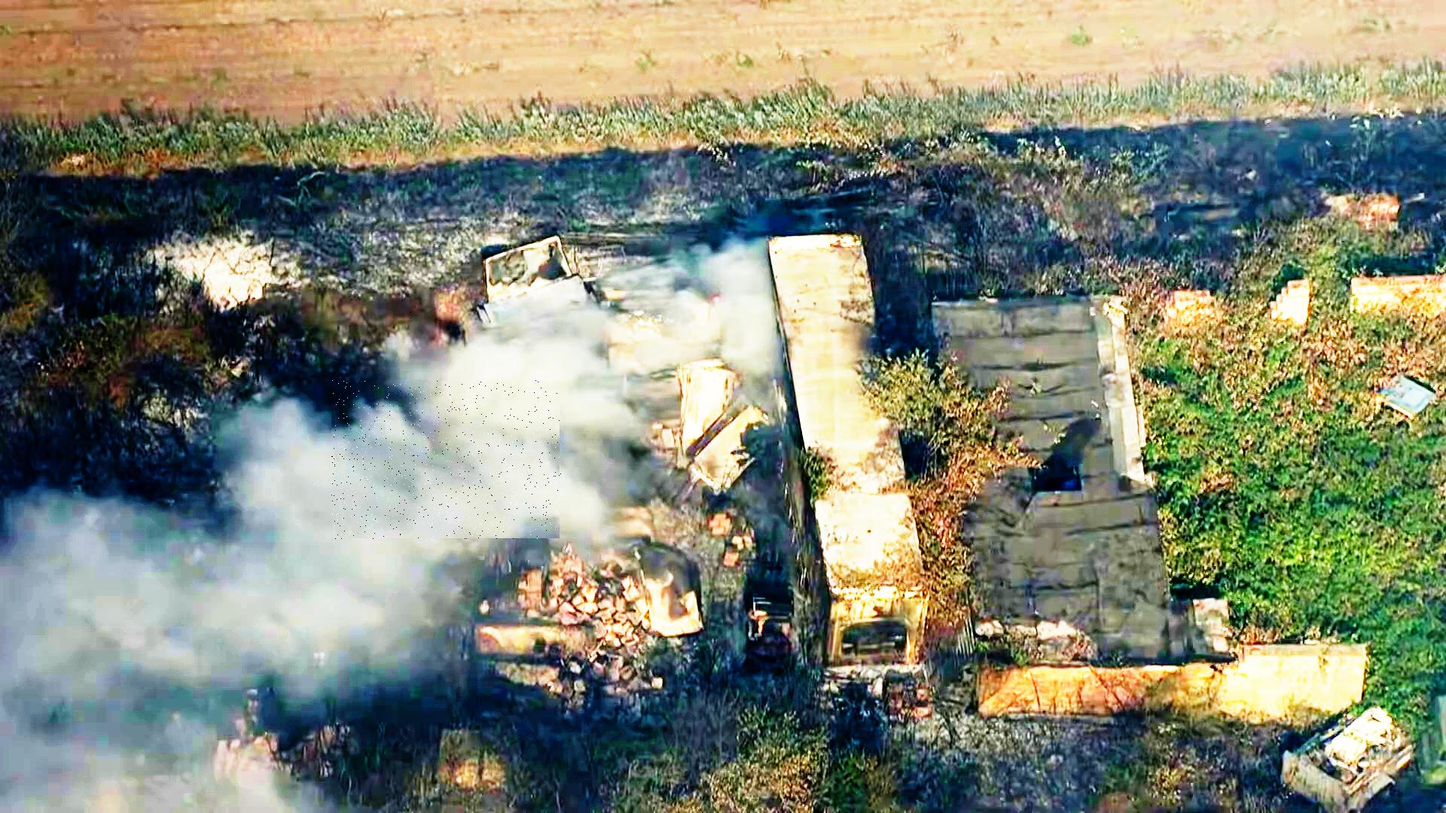smoke: (332, 381, 562, 540)
